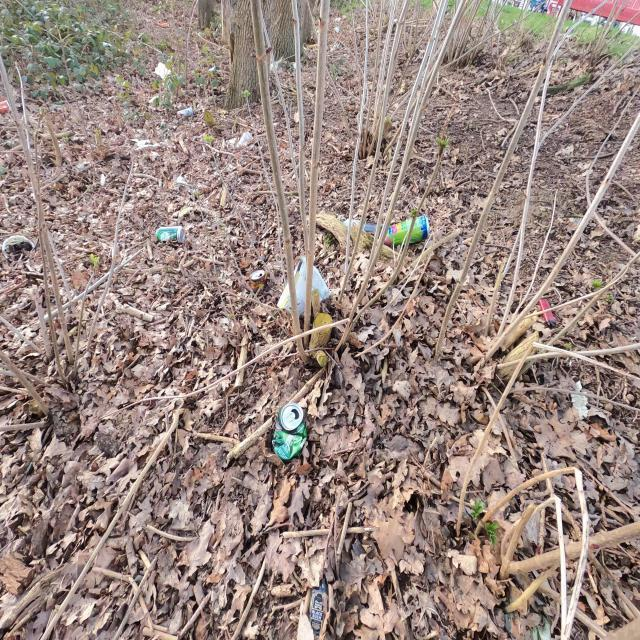Can-Metal: (270, 400, 308, 462), (342, 218, 382, 239), (155, 224, 186, 244), (248, 267, 268, 298), (177, 106, 196, 118), (208, 66, 218, 72), (290, 61, 296, 70), (334, 26, 340, 33)
Paper: (152, 61, 172, 82)
Plastic: (276, 253, 332, 317)
